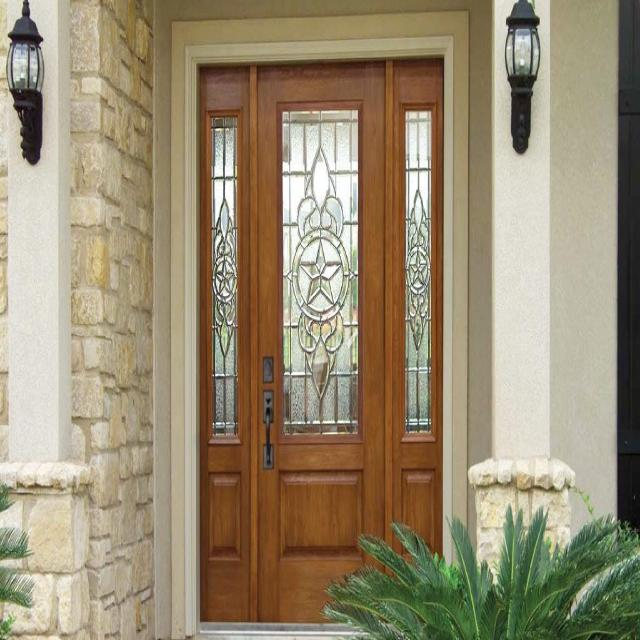door: (198, 55, 444, 626)
